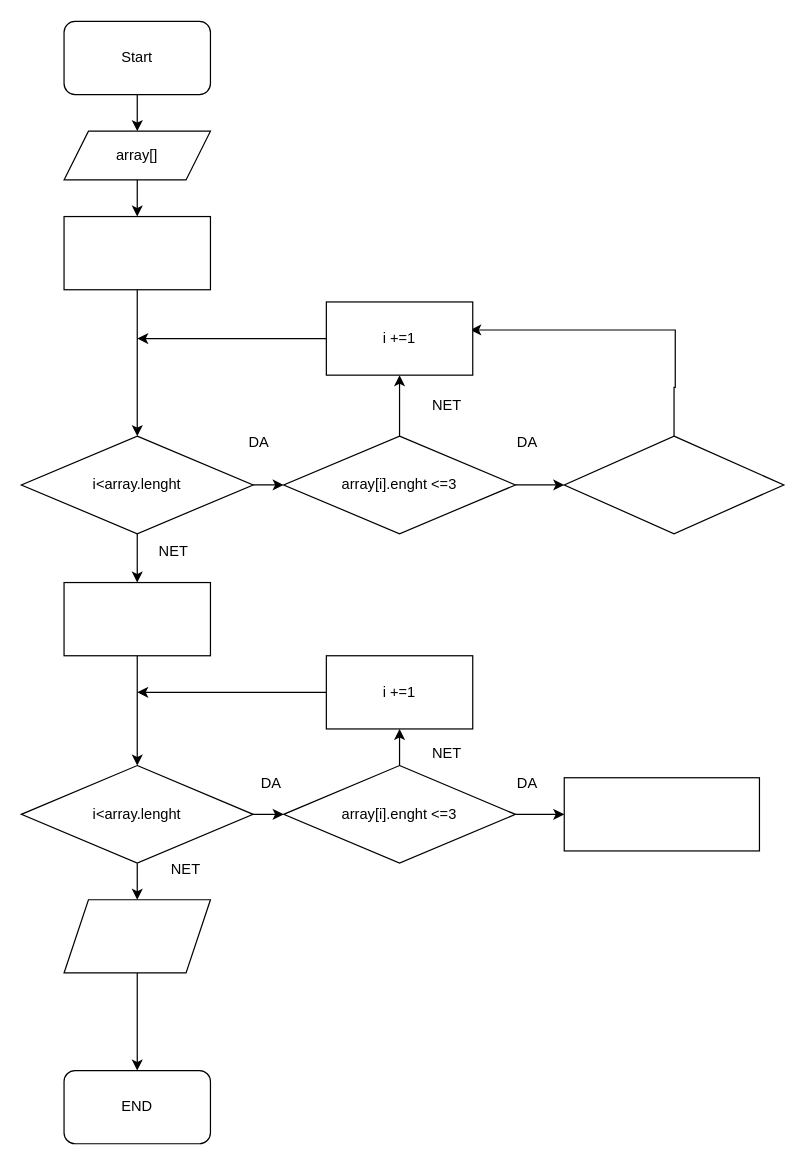
Some shapes in this 805 by 1165 pixel diagram are drawn without their labels. The box of each missing label's shape, as (x1, y1, x2, y2) in pixels:
c+=1: (563, 435, 784, 534)
i=0 c=0 b=0: (63, 215, 210, 290)
new array[b] = array [i] b+=1: (563, 777, 759, 851)
new array[c]: (63, 899, 210, 973)
new array[c] i = 0: (63, 581, 210, 656)
